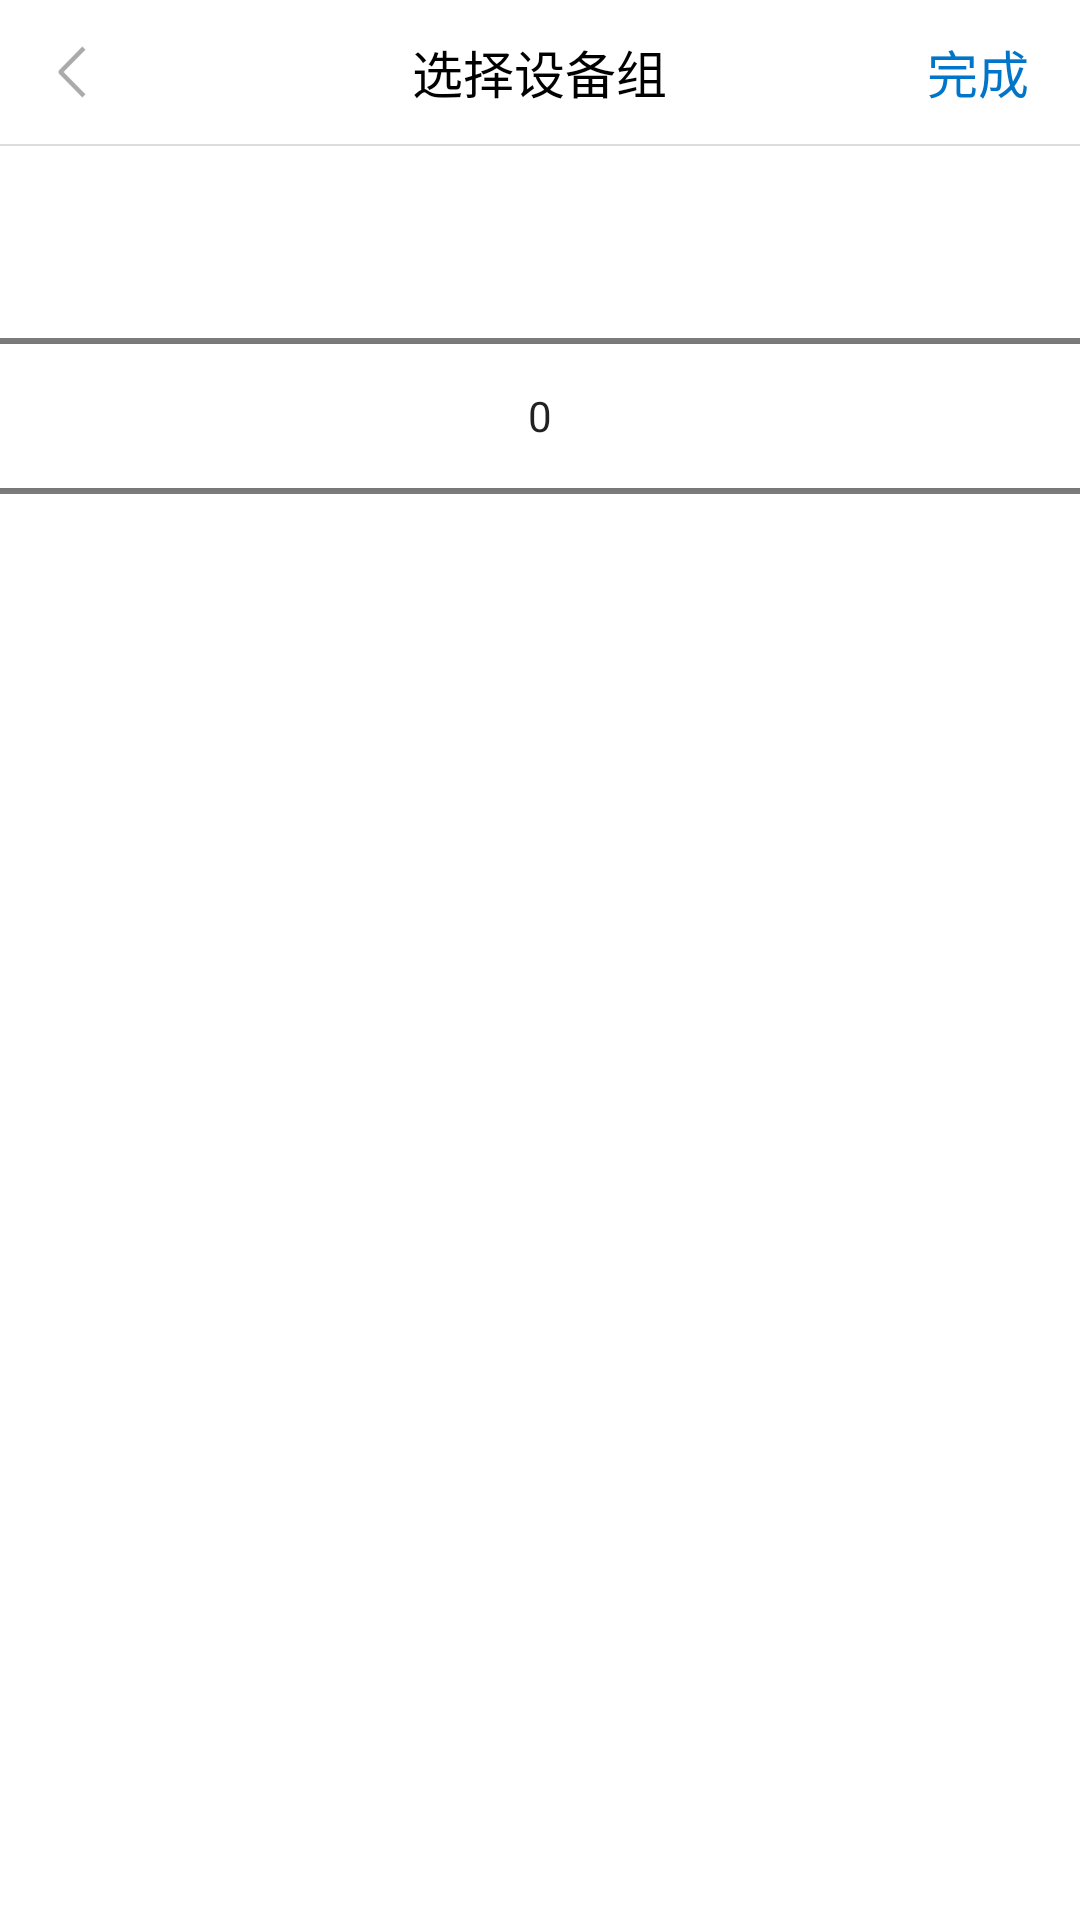

Named icons in this screenshot (1080 × 1920) and their bounding boxes, (x1, y1, x2, y2):
back: (58, 47, 85, 97)
